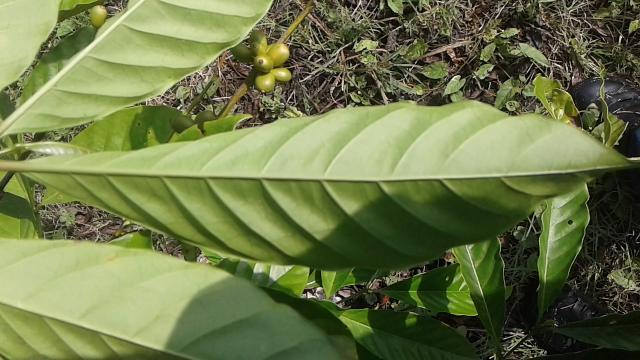healthy: (24, 101, 636, 270)
